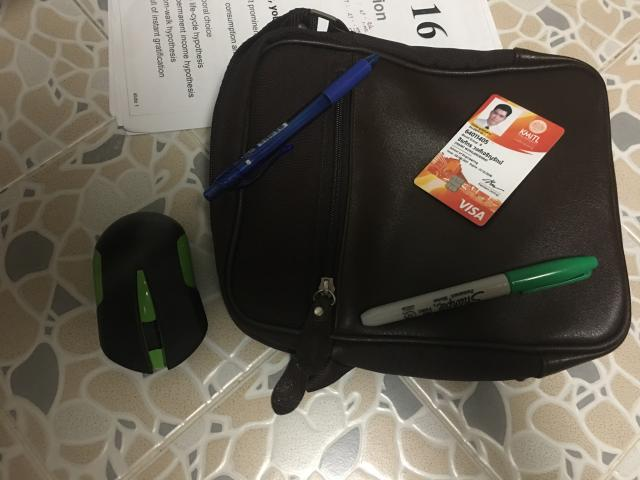Mouse: (92, 211, 208, 372)
Pen: (204, 54, 379, 201), (361, 256, 598, 326)
paper: (109, 0, 500, 131)
